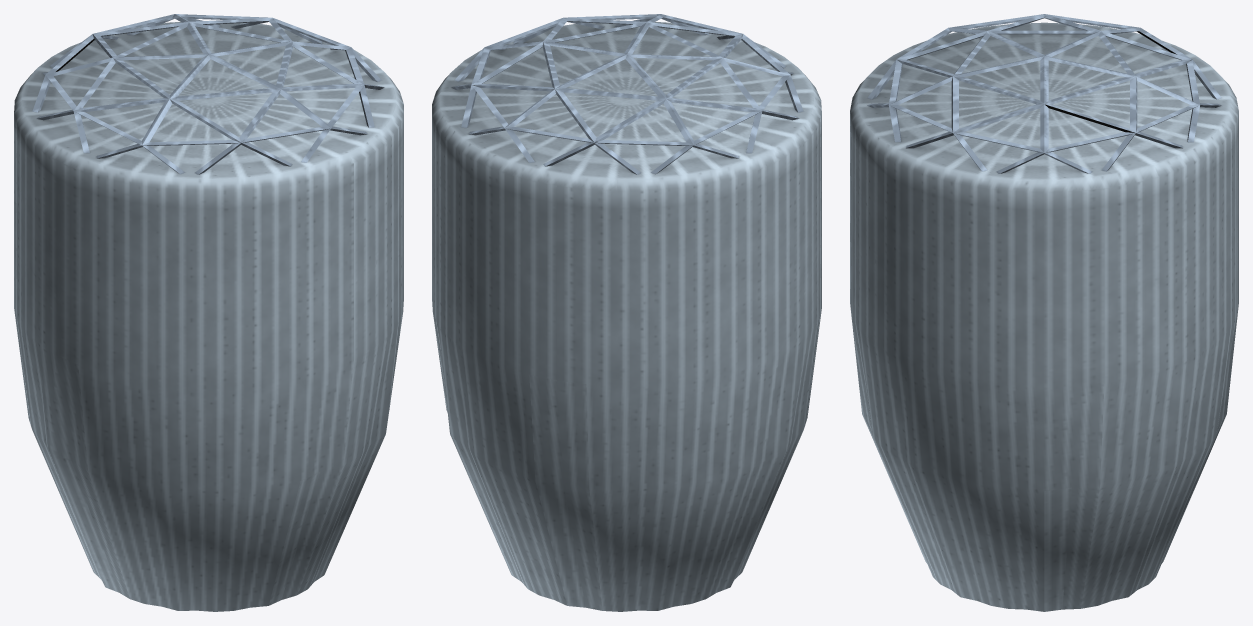
File: shell_b1_lattice_cap.glb
The picture shows the model from 3 angles, left to right: view 1: azimuth 30°, elevation 25°; view 2: azimuth 150°, elevation 25°; view 3: azimuth 270°, elevation 25°; orthographic projection.
Visible parts, largest first — view 1: ShellB1LatticeCap; view 2: ShellB1LatticeCap; view 3: ShellB1LatticeCap.
Part boxes in pixels (bbox=[...]): ShellB1LatticeCap: bbox=[14, 14, 403, 611]; ShellB1LatticeCap: bbox=[432, 14, 821, 611]; ShellB1LatticeCap: bbox=[850, 14, 1238, 611].
Bounding box in the file's own units: 1.6 × 2.45 × 1.6.
Materials: 2 (2 with a texture image).
